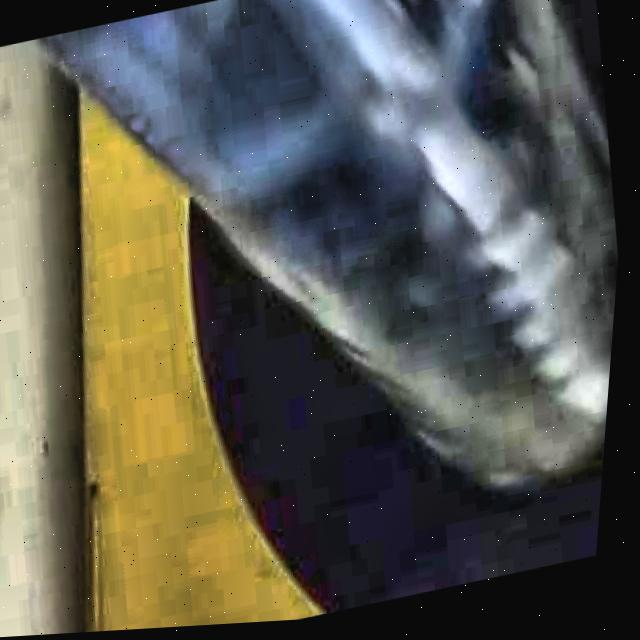plastic: (38, 0, 623, 492)
